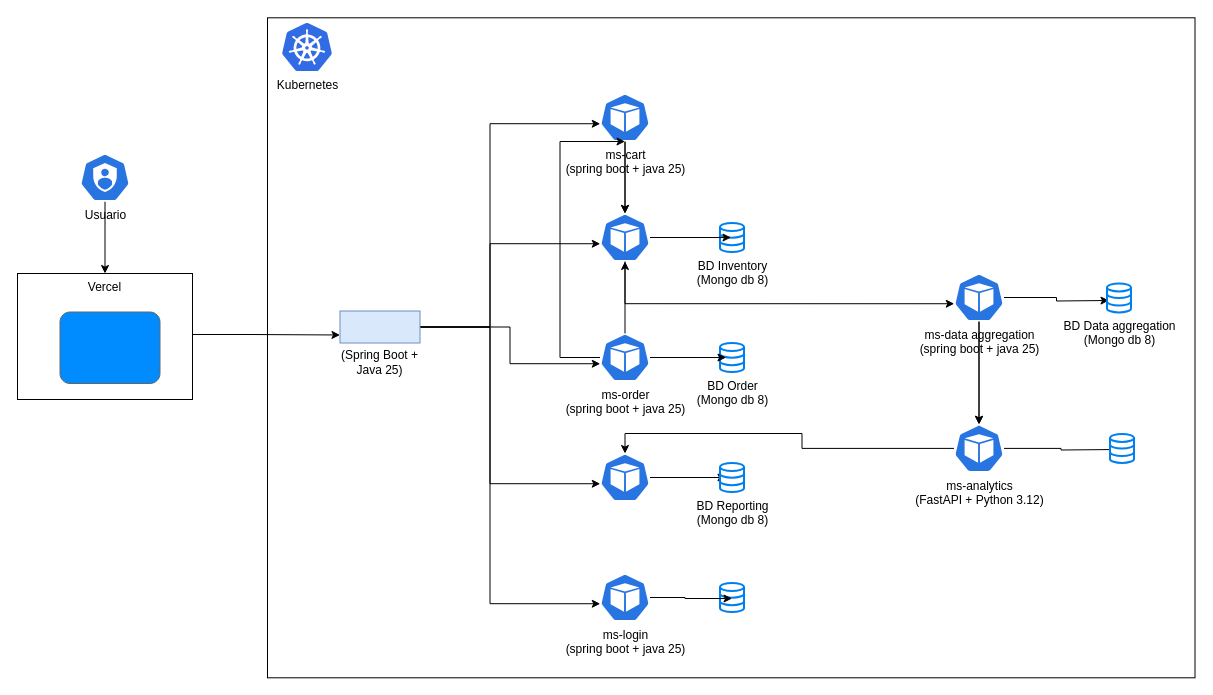
Some shapes in this 1213 by 695 pixel diagram are drawn without their labels. Here are the shapes that lost their labels. From the top down, the centre of each, then its label:
At pixel 624 237: "ms-inventory (spring boot + java 25)".
At pixel 109 337: "Frontend (React + Vite )".
At pixel 379 326: "BFF".
At pixel 1121 448: "BD Analytics (Mongo db 8)".
At pixel 624 477: "ms-reporting (spring boot + java 25)".
At pixel 731 597: "BD Login (Mongo db 8)".
